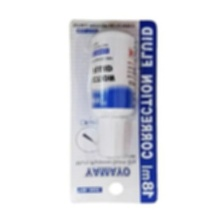book: (67, 19, 157, 204)
correction_fluid: (86, 27, 139, 160)
